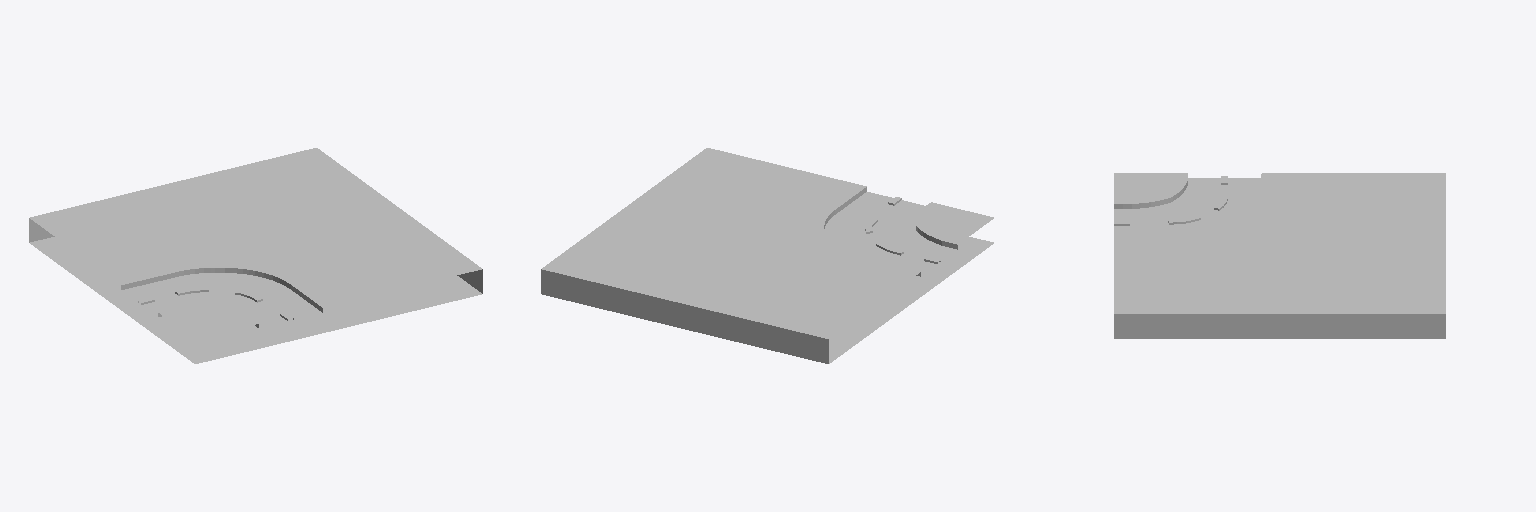
File: street_alt.obj
3 views of the same model, side by side, from view 1: azimuth 30°, elevation 25°; view 2: azimuth 150°, elevation 25°; view 3: azimuth 270°, elevation 25° (orthographic).
Visible parts, largest first — view 1: Street_Curve_Cube.004; view 2: Street_Curve_Cube.004; view 3: Street_Curve_Cube.004.
Part boxes in pixels (left/top/right/bottom): Street_Curve_Cube.004: left=29, top=148, right=482, bottom=363; Street_Curve_Cube.004: left=541, top=148, right=993, bottom=363; Street_Curve_Cube.004: left=1114, top=173, right=1445, bottom=338.
Bounding box in the file's own units: 9 × 0.75 × 9.